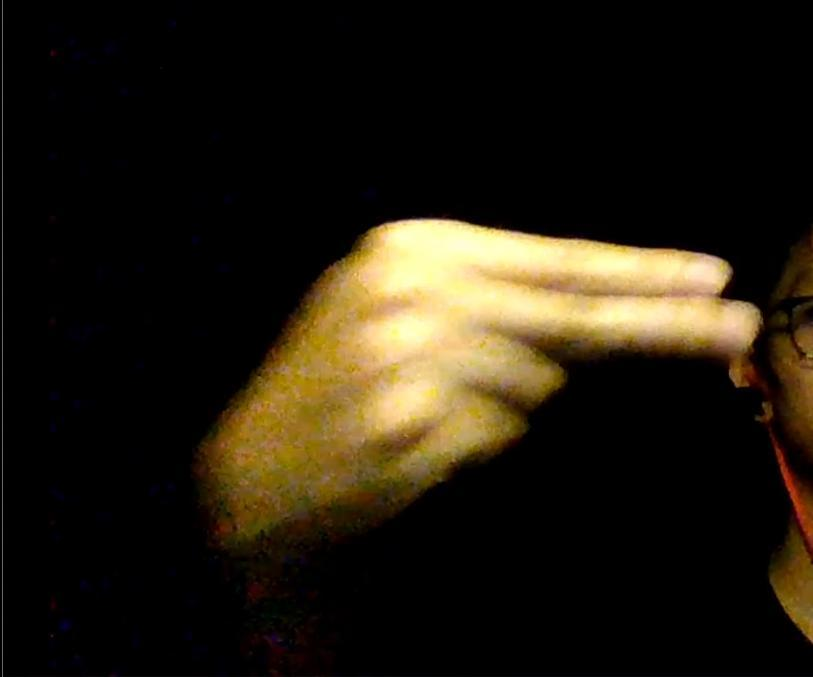h: (227, 217, 760, 548)
